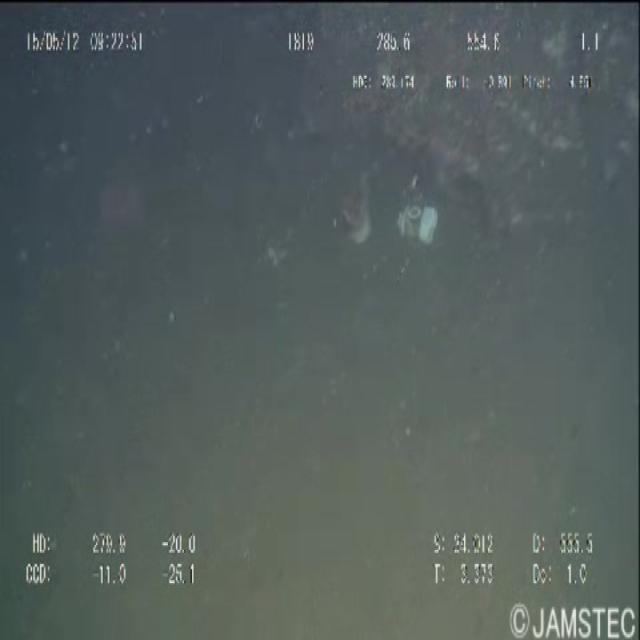Litter: (387, 181, 454, 260)
